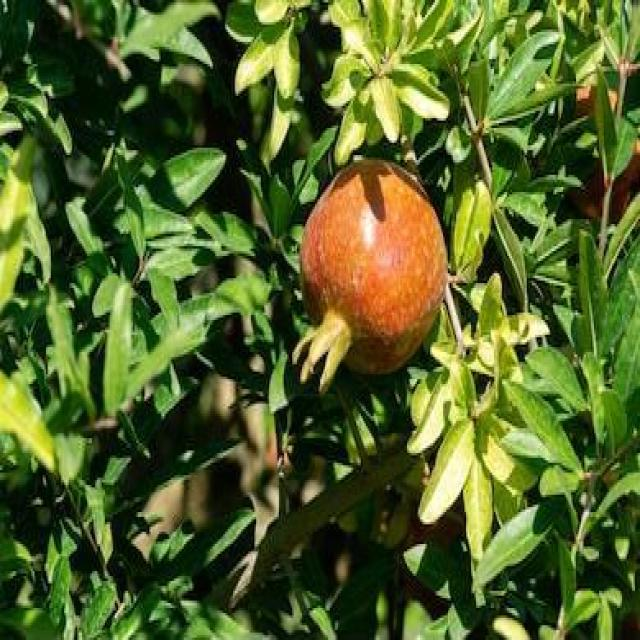Pomegranate: (290, 155, 451, 390)
